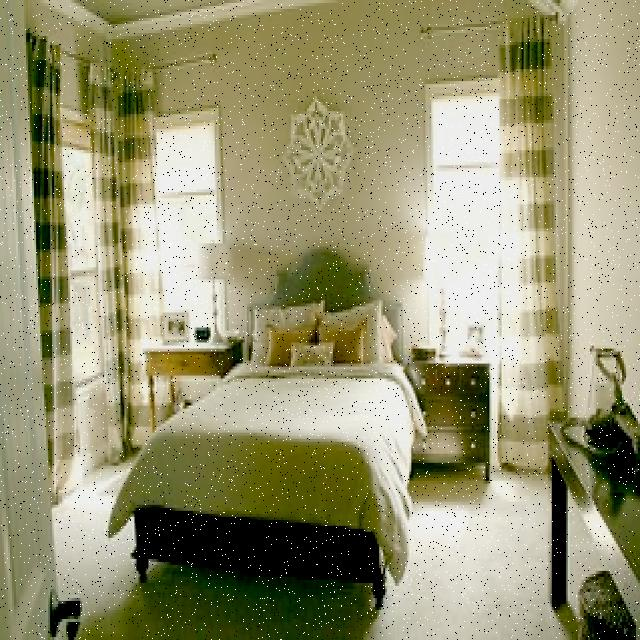bed: (135, 284, 405, 575)
